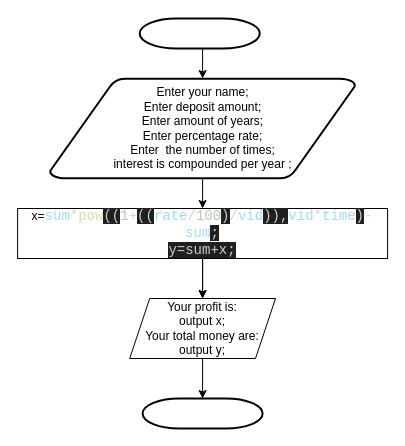
Some shapes in this 405 by 446 pixel diagram are drawn without their labels. The shapes that lost their labels are listed below. From the top down, each one's box as (x1, y1, x2, y2) in pixels, then its label:
(138, 17, 260, 49): Start
(141, 397, 263, 429): End
